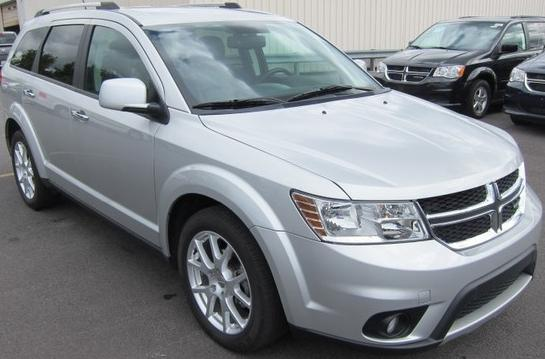front_view: (267, 120, 536, 331)
headlight: (276, 174, 440, 249)
side_glass: (11, 25, 173, 120)
